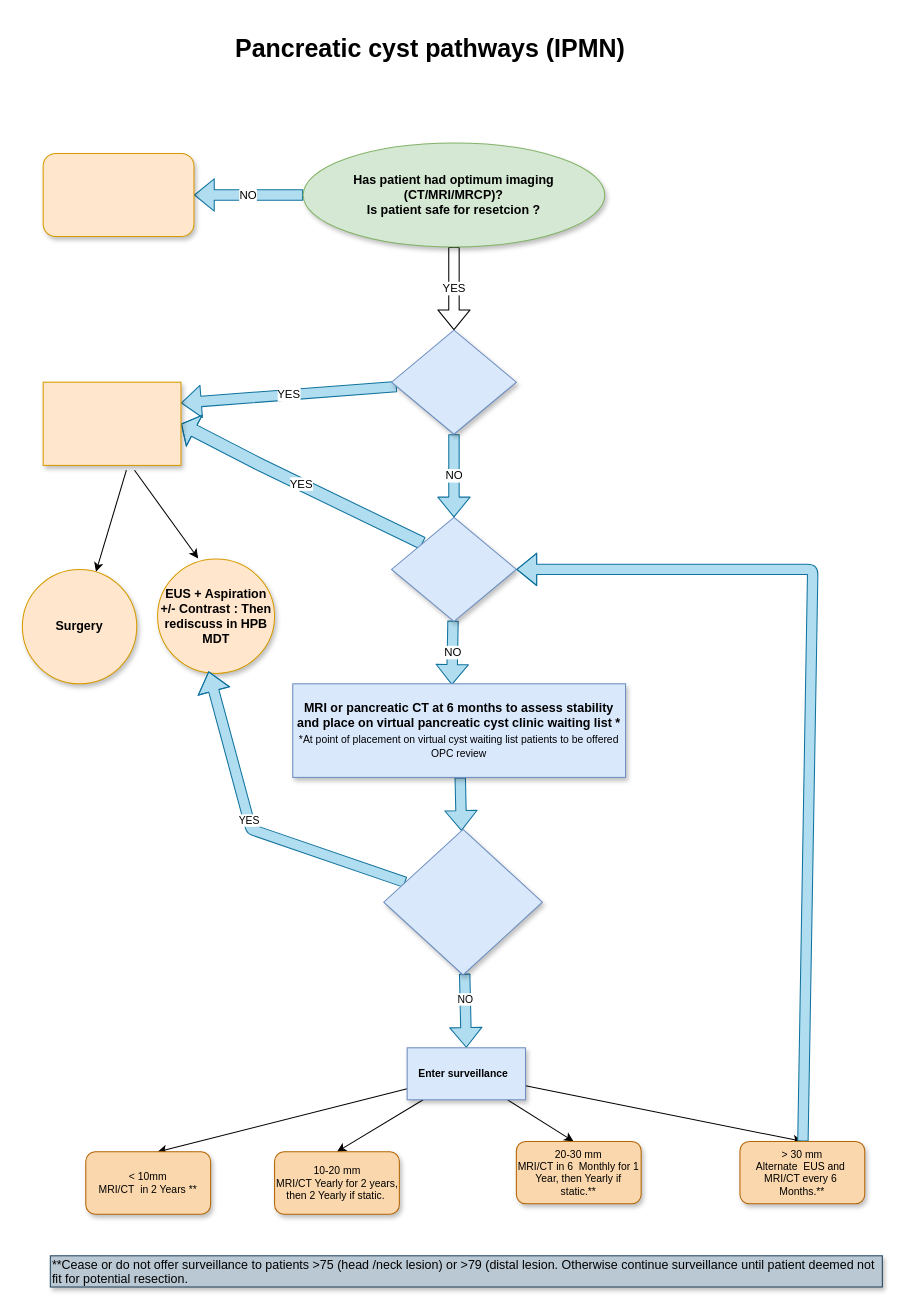
This 907x1312 diagram has some shape labels left out. Each missing label, with the centre of its shape:
"*Complete baseline imaging *Consider no further Ix If comorbities significant" belongs at (119,196).
"Any high risk features?" belongs at (454,383).
"Any worisome features?" belongs at (454,570).
"Cyst growth or other worrisome feature at 6 /12?" belongs at (464,903).
"URGENT HPB MDT Discussion" belongs at (112,425).
